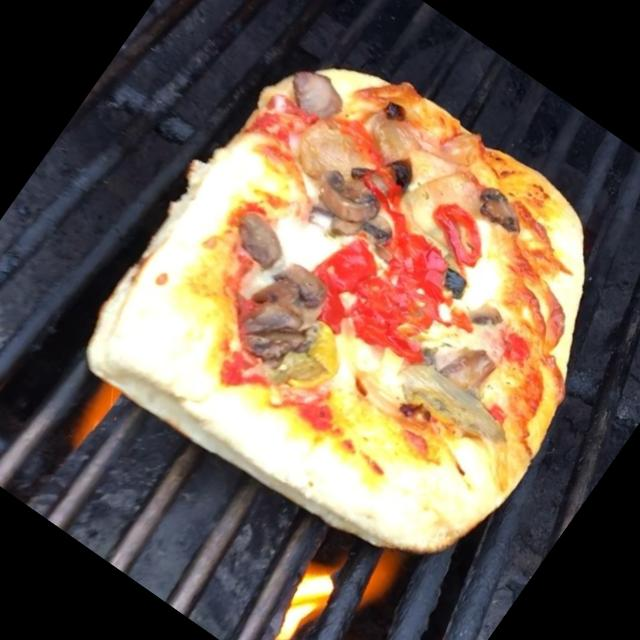mushrooms: (232, 250, 344, 372), (416, 324, 498, 401), (306, 160, 386, 237), (352, 137, 419, 205), (224, 208, 293, 274), (285, 66, 353, 132), (471, 182, 533, 240), (460, 290, 510, 340), (436, 262, 475, 301)
peppers: (329, 165, 502, 319), (303, 235, 457, 378), (422, 196, 501, 272)
pizza: (82, 67, 585, 558)
